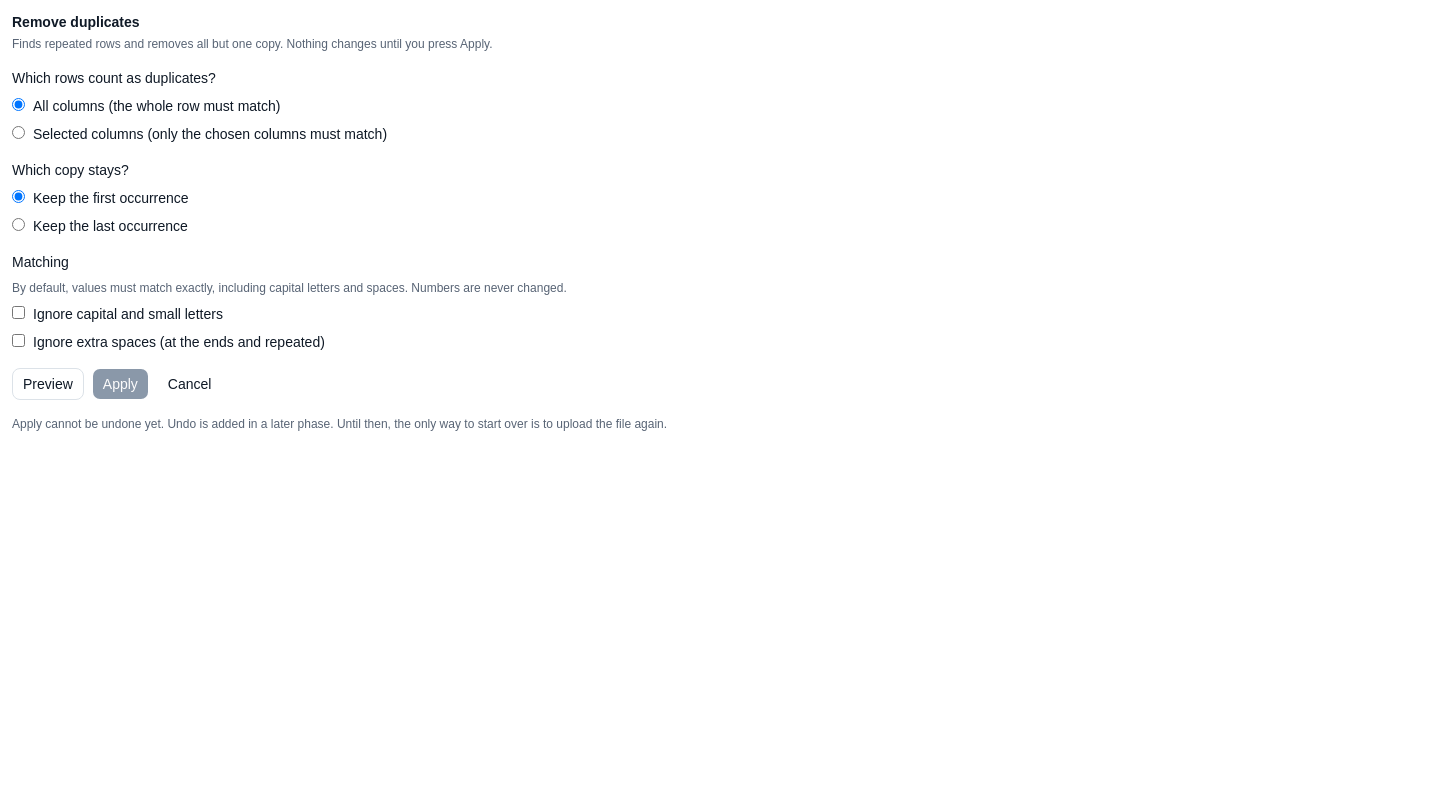
Test case: DuplicatesPanel: apply › shows an error when applying fails, and asks for a new preview
This screenshot has width=1452, height=810.
Click the button "Preview".
click(48, 384)  # box top-left (12, 368), bottom-right (84, 400)
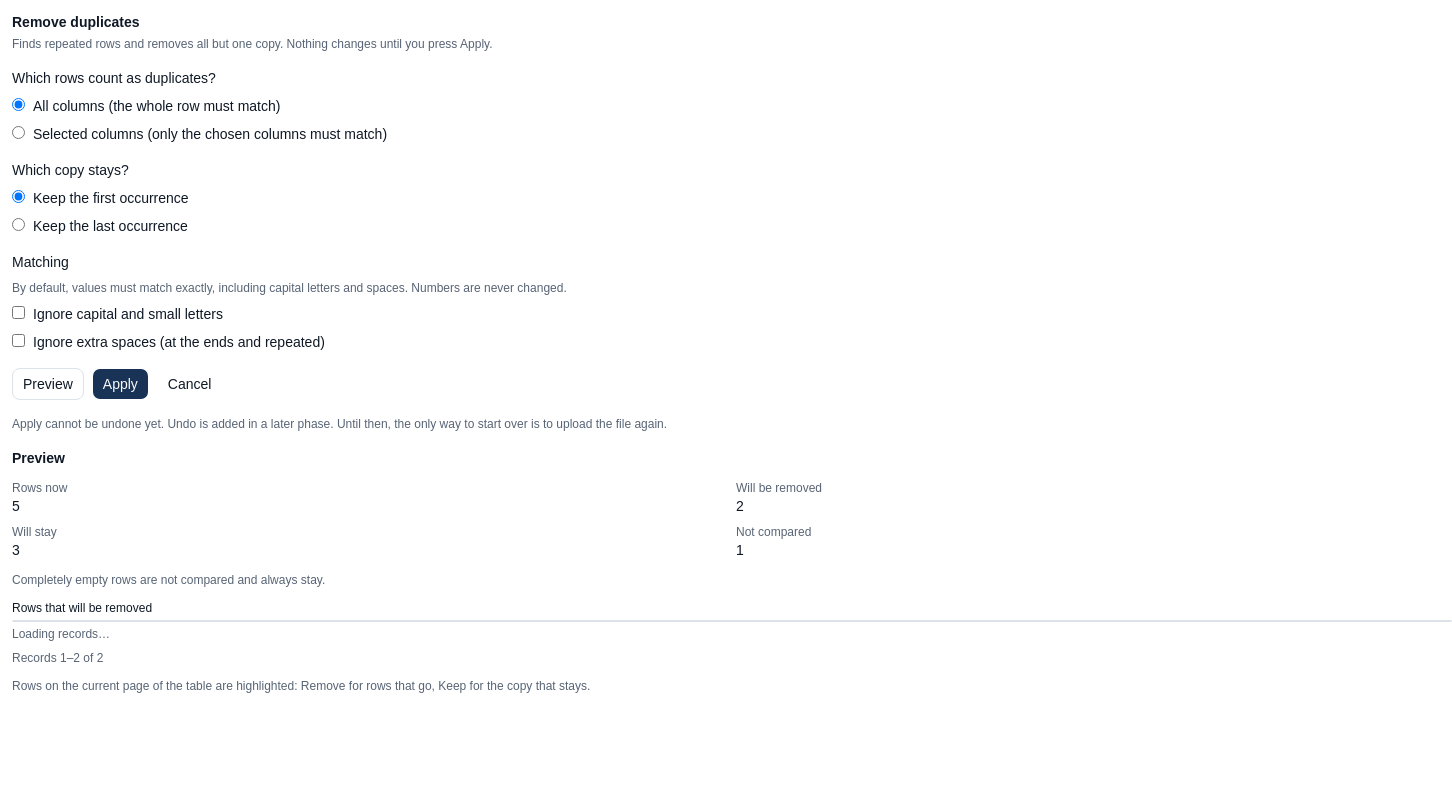
Check: the element "Preview" is shown, box top-left (12, 448), bottom-right (1451, 694)
Click the button "Apply".
click(120, 384)  # box top-left (92, 368), bottom-right (149, 400)
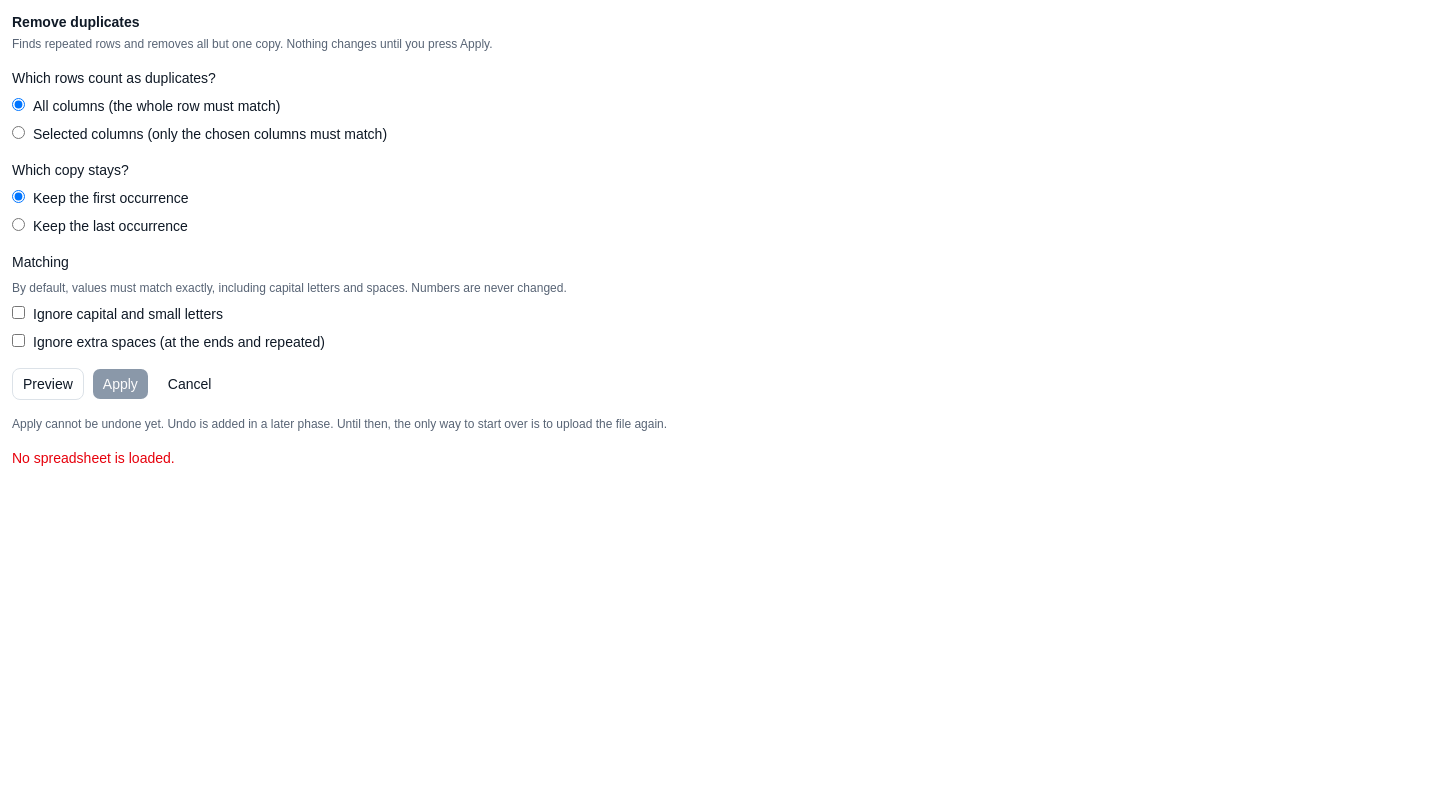
Check: the message reads "No spreadsheet is loaded.", box top-left (12, 450), bottom-right (175, 466)
Check: the button "Apply" is disabled, box top-left (92, 368), bottom-right (149, 400)
